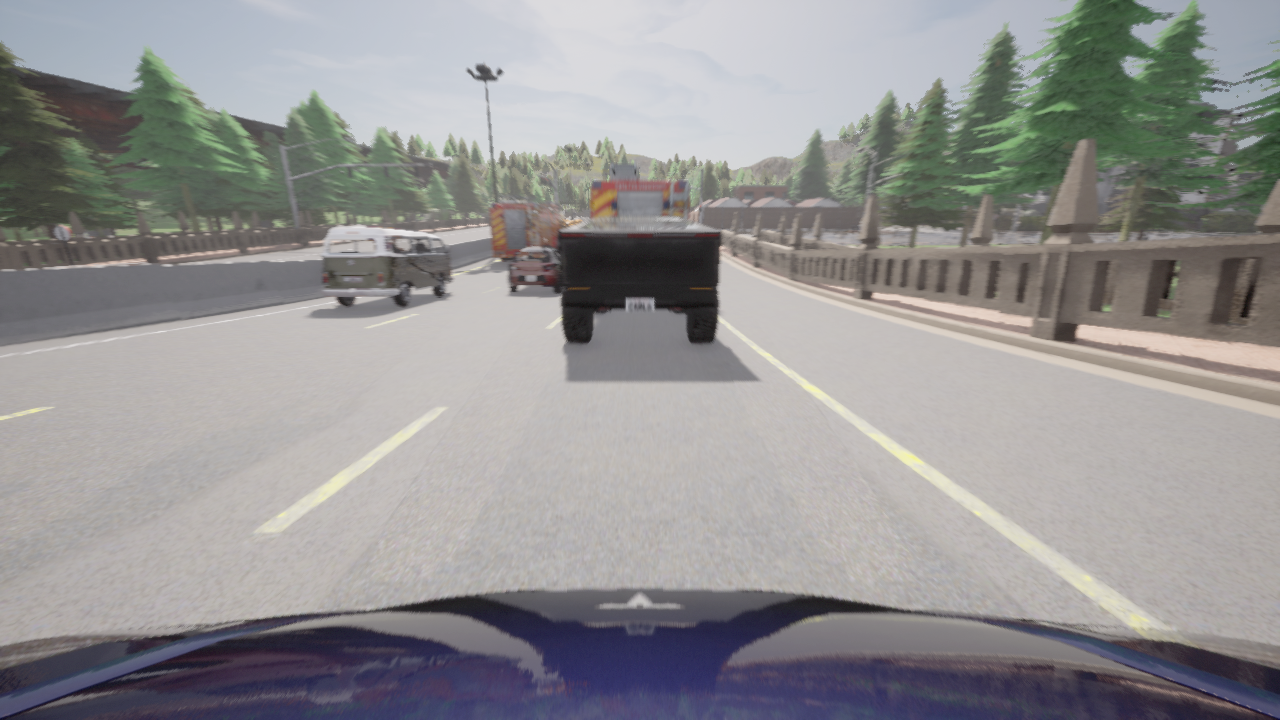cyclist: (0, 588, 1279, 719), (559, 217, 720, 342), (322, 226, 452, 306), (590, 163, 689, 219), (490, 195, 563, 260), (508, 247, 562, 292)
pedestrian: (857, 222, 861, 234), (851, 222, 855, 233), (751, 230, 754, 238)
